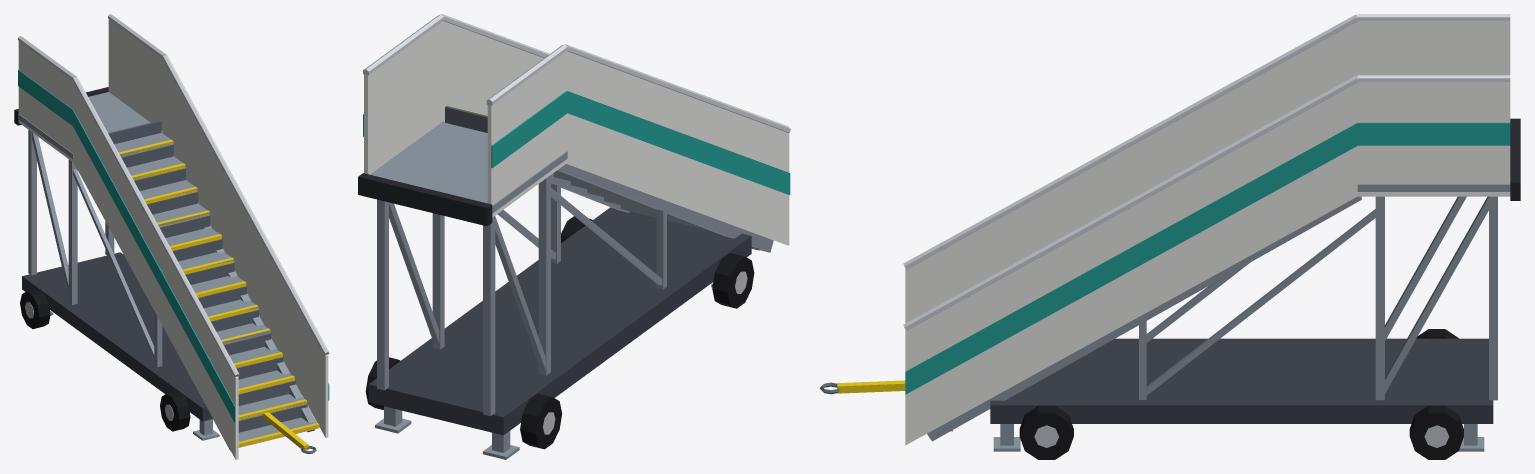
File: aircraft_stairs.glb
The picture shows the model from 3 angles, left to right: view 1: azimuth 30°, elevation 25°; view 2: azimuth 150°, elevation 25°; view 3: azimuth 270°, elevation 25°; orthographic projection. The views are drawn at different scales.
Visible parts, largest first — view 1: Stairs; view 2: Stairs; view 3: Stairs.
Part boxes in pixels (x1,y1,x2,y2): Stairs: [14, 14, 329, 459]; Stairs: [358, 14, 790, 459]; Stairs: [819, 14, 1520, 459].
Bounding box in the file's own units: 1.77 × 3.65 × 6.2.
